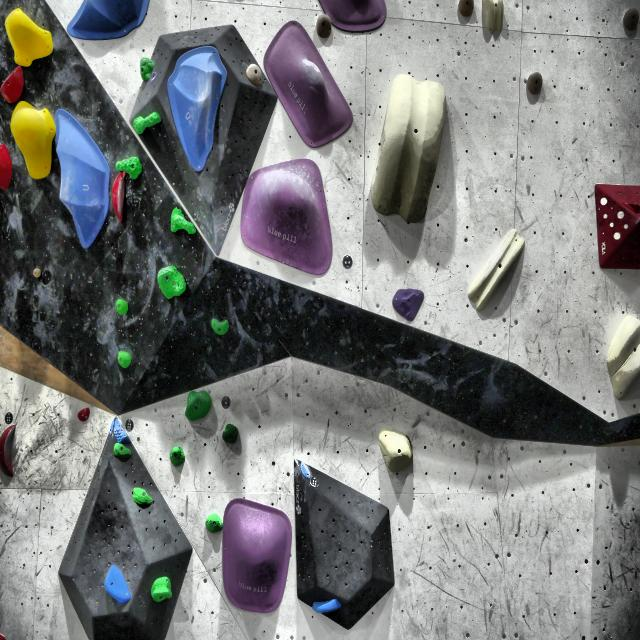Hold: (262, 19, 354, 150), (371, 74, 444, 231), (242, 160, 335, 279), (223, 488, 291, 621), (53, 100, 111, 252), (170, 45, 225, 172), (466, 225, 531, 311), (70, 0, 148, 46), (604, 309, 640, 407), (11, 102, 55, 180), (4, 10, 54, 69), (314, 0, 391, 35), (372, 421, 414, 473), (0, 420, 23, 483), (102, 558, 132, 604), (155, 263, 188, 300), (392, 284, 422, 323), (184, 385, 214, 424), (0, 141, 17, 200), (1, 65, 24, 106), (149, 575, 177, 606), (616, 194, 640, 227), (112, 171, 128, 219), (168, 208, 196, 235), (127, 483, 153, 509), (307, 598, 339, 619), (133, 109, 161, 133), (113, 154, 142, 177), (110, 416, 130, 444), (621, 194, 640, 221), (114, 347, 134, 370), (109, 442, 134, 459), (169, 444, 187, 467), (208, 319, 231, 337), (220, 423, 238, 445), (138, 57, 154, 81), (298, 458, 313, 483), (114, 297, 130, 316), (204, 514, 220, 532), (77, 403, 92, 420)
